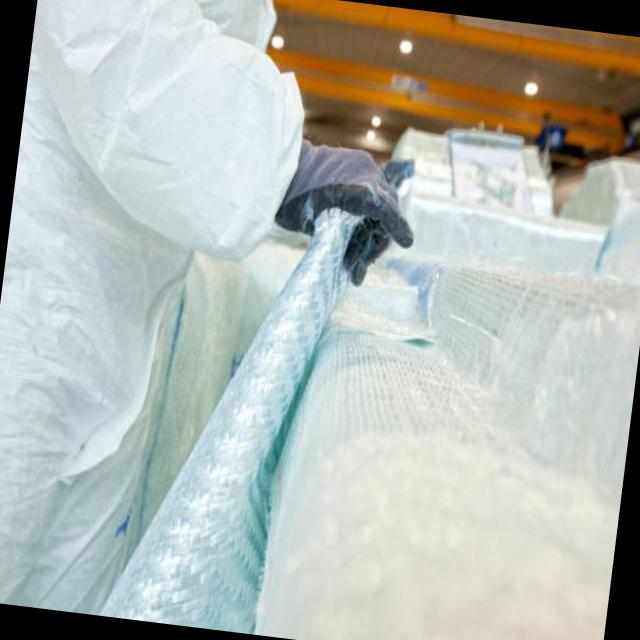Gloves: (264, 130, 425, 292)
